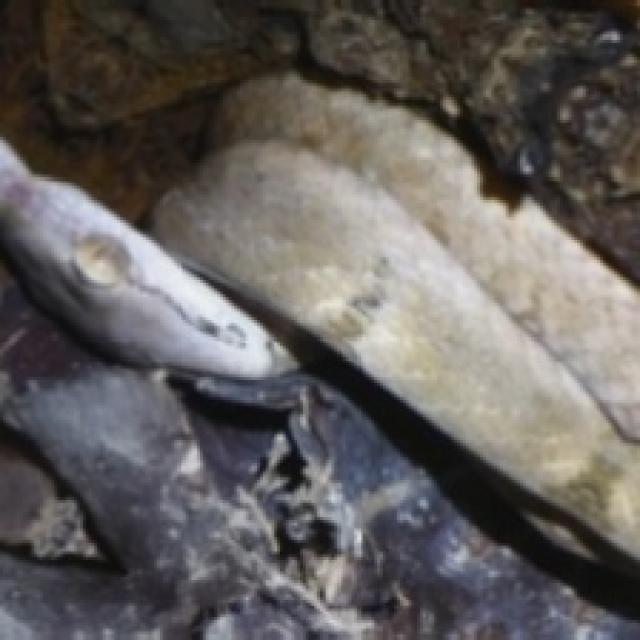dog-toothed cat snake: (0, 74, 640, 596)
